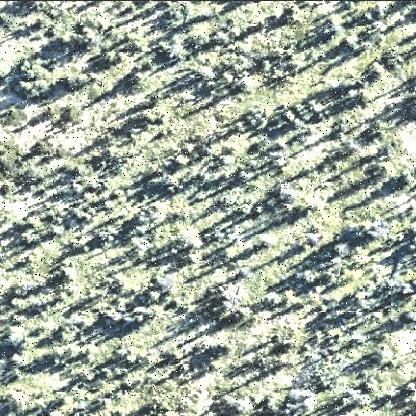tree-top: (208, 279, 245, 317), (170, 219, 202, 255), (57, 62, 91, 94), (16, 54, 47, 89), (1, 4, 39, 32), (112, 337, 141, 367), (272, 180, 302, 208), (186, 19, 215, 46), (219, 394, 253, 416), (77, 23, 103, 49), (333, 112, 358, 138), (2, 322, 26, 349), (8, 346, 36, 369), (154, 169, 184, 190), (126, 69, 150, 95), (16, 222, 40, 248), (126, 303, 151, 327), (209, 66, 235, 88), (368, 343, 391, 367), (262, 289, 286, 311), (195, 332, 217, 356), (348, 217, 372, 239), (263, 394, 286, 416), (323, 13, 344, 37), (45, 349, 67, 371), (56, 266, 78, 287), (1, 145, 19, 170), (43, 101, 63, 123), (216, 337, 238, 357), (331, 238, 353, 258), (299, 266, 319, 287), (279, 107, 303, 124), (365, 61, 385, 81), (235, 306, 255, 326), (140, 106, 162, 122), (399, 171, 416, 191), (342, 31, 358, 52), (101, 46, 119, 64), (285, 5, 303, 23), (165, 347, 183, 365), (173, 152, 191, 169), (34, 137, 49, 157), (257, 236, 275, 252), (405, 382, 416, 402), (405, 97, 416, 117)
